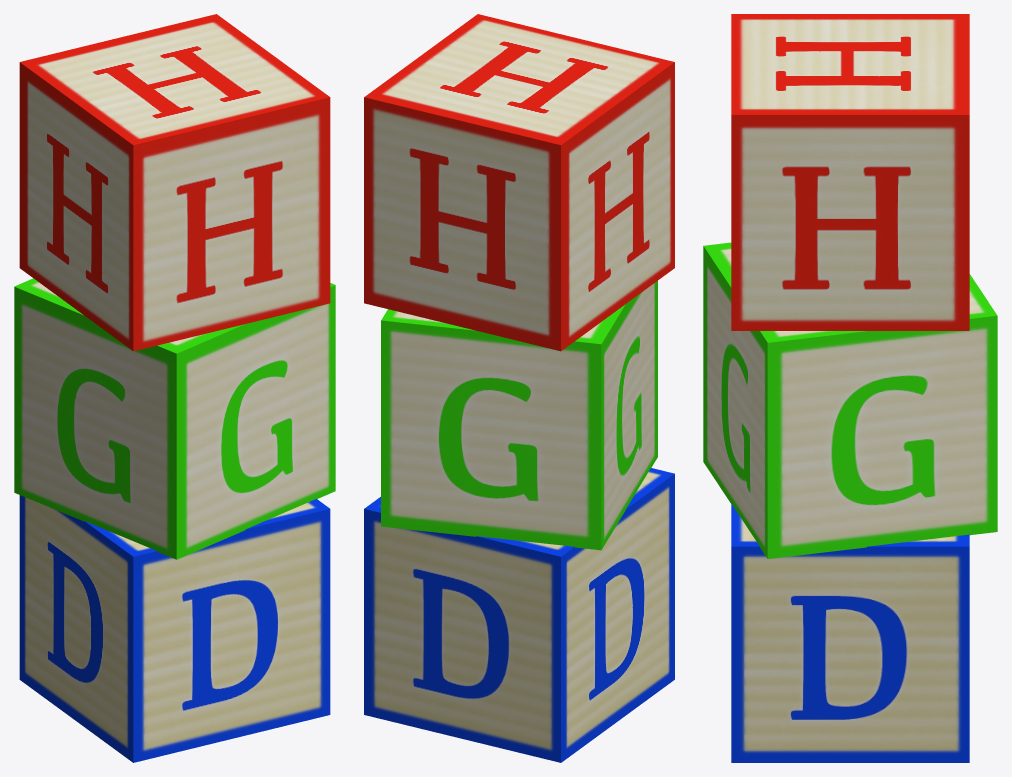
File: Tower.fbx
3 views of the same model, side by side, from view 1: azimuth 30°, elevation 25°; view 2: azimuth 150°, elevation 25°; view 3: azimuth 270°, elevation 25° (orthographic). The views are drawn at different scales.
Visible parts, largest first — view 1: Cube.002, Cube.001, Cube; view 2: Cube.002, Cube, Cube.001; view 3: Cube.002, Cube.001, Cube.
Part boxes in pixels (x1,y1,x2,y2): Cube.002: (19, 14, 330, 351); Cube.001: (14, 278, 335, 559); Cube: (19, 495, 330, 762); Cube.002: (364, 14, 674, 351); Cube: (364, 468, 674, 762); Cube.001: (381, 281, 657, 550); Cube.002: (731, 14, 969, 330); Cube.001: (703, 242, 997, 558); Cube: (731, 504, 969, 762).
Size of the model in its own units: 247 by 599 by 247.
Materials: 3 (3 with a texture image).
